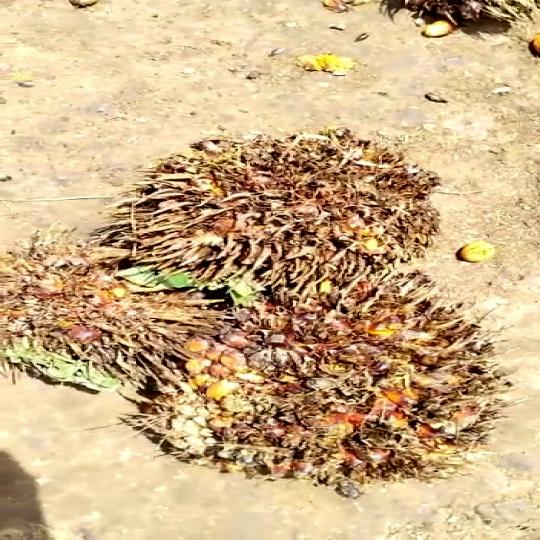terlalu masak: (136, 272, 509, 490), (82, 135, 442, 302)
